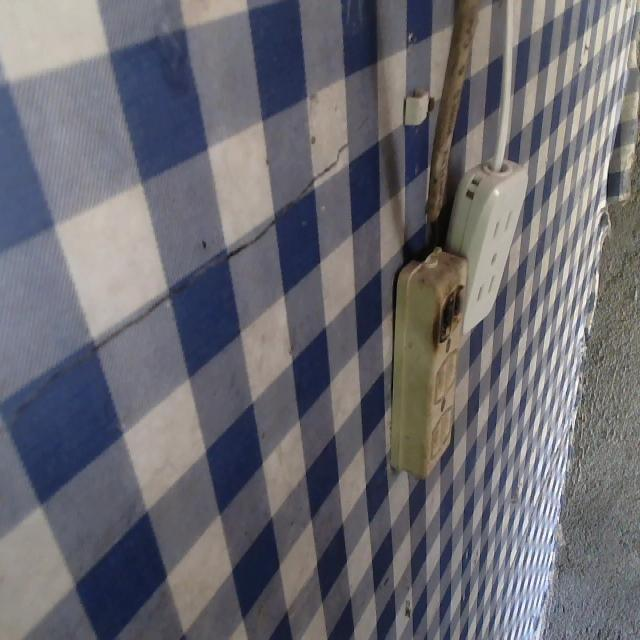-: (430, 275, 465, 336)
